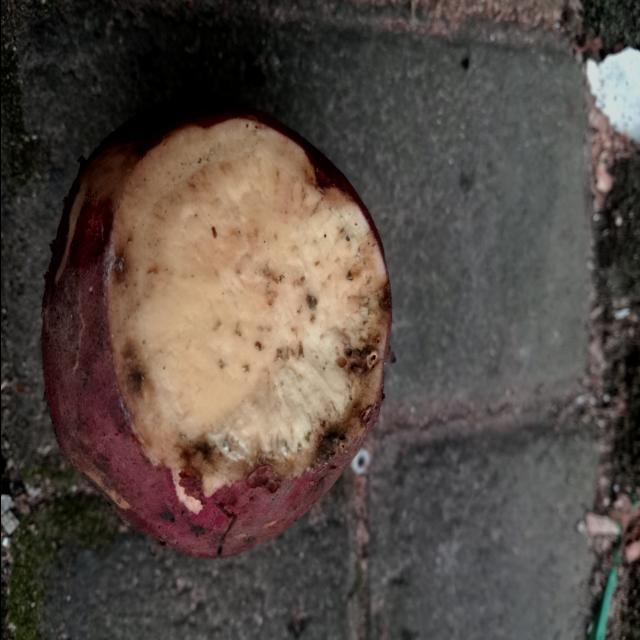Sick Sweet Potato_Tuber Rot: (108, 118, 390, 495)
